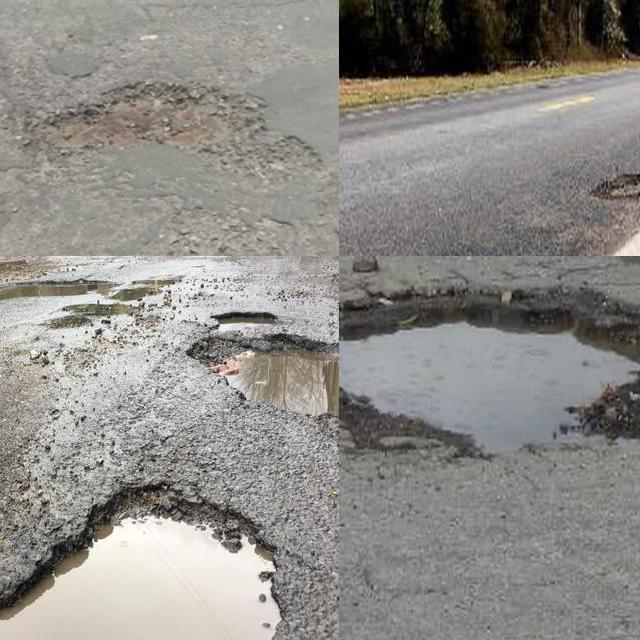Lubang: (339, 292, 640, 458), (0, 484, 277, 640), (32, 75, 325, 181), (196, 332, 339, 419), (582, 169, 640, 205)
